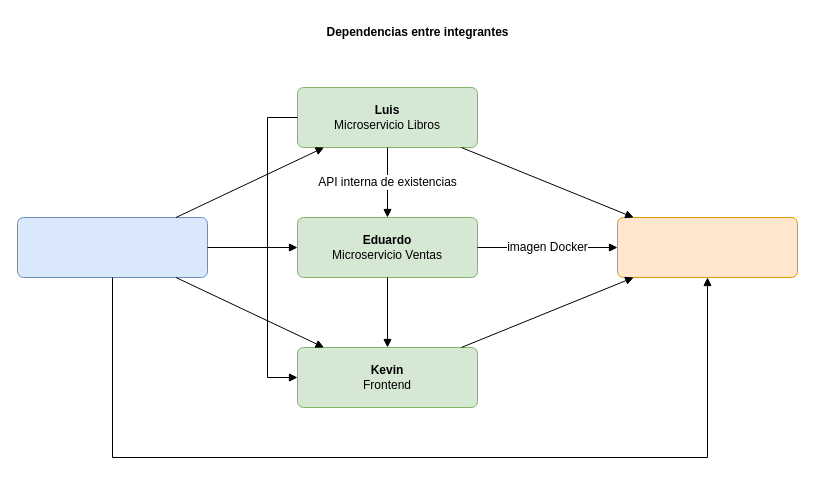
The diagram is 815 pixels wide and 483 high, and some of its shapes have lost their labels. The shapes that lost their labels are listed below. From the top down, each one's centre as x and y in pixels, then its label:
At point 112,247: "Carlos contratos + API Gateway ✔".
At point 707,247: "Billy Terraform + Ansible".
